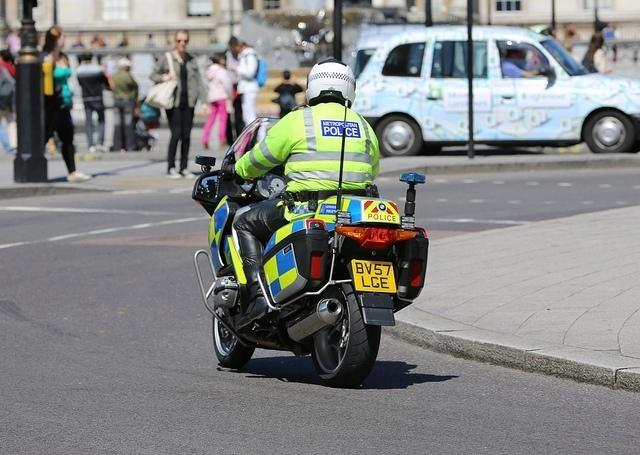car: (349, 24, 640, 158)
motorcycle: (196, 121, 434, 378)
